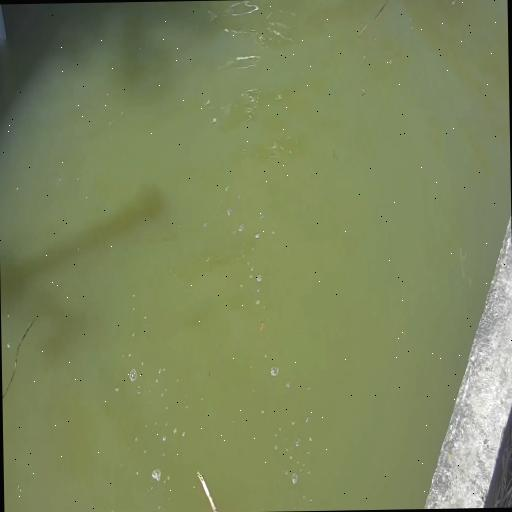twig: (190, 462, 227, 512)
